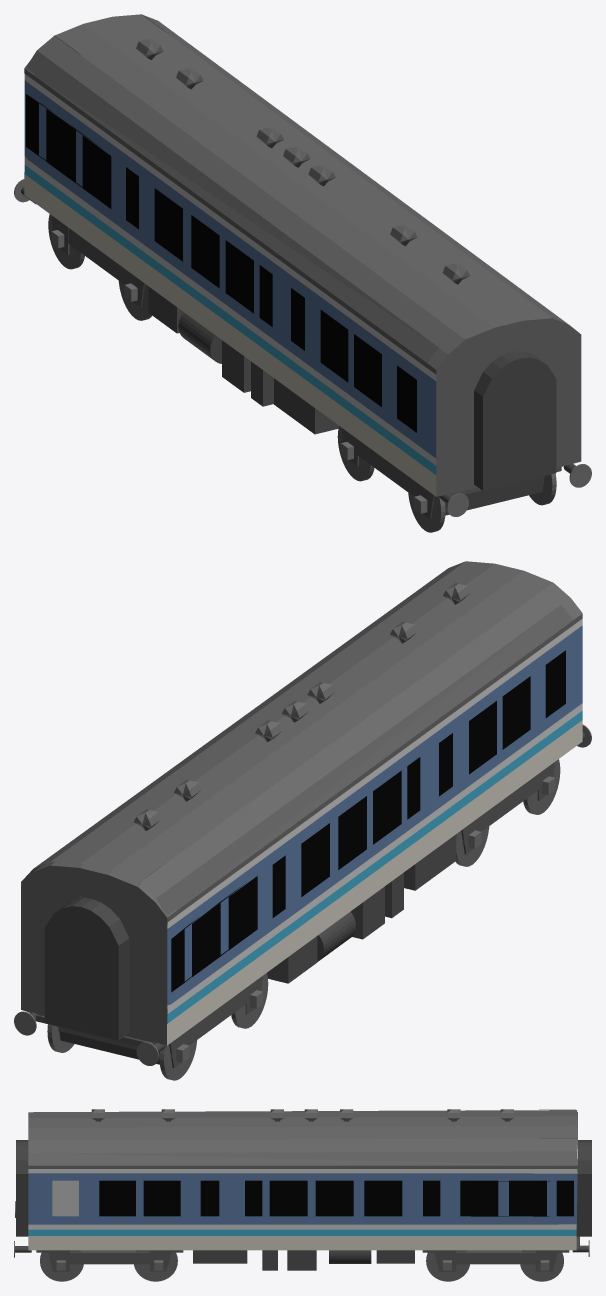
Rendered from BR-101-tsl-rr.dae.
The picture shows the model from 3 angles, top to bottom: view 1: azimuth 30°, elevation 25°; view 2: azimuth 150°, elevation 25°; view 3: azimuth 270°, elevation 25°; orthographic projection. The views are drawn at different scales.
Parts seen in each view (by area): view 1: BR-cl101-front_rear, Cube, Cube_060_001, Cube_001, Cube_043_001, Cube_043, Cylinder_002, Cube_003, Cube_004, Cube_002, Cylinder_011_001; view 2: BR-cl101-front_rear, Cube_005, Cube_043, Cube_001, Cube_043_001, Cube_004, Cube_003, Cube_061, Cylinder_002, Cylinder_010, Cube_002; view 3: BR-cl101-front_rear, Cube_005, Cube_043, Cube_043_001, Cube, Cube_001, Cube_003, Cylinder_009_001, Cylinder_008, Cylinder_009, Cylinder_008_001, Cylinder_003 (+4 smaller).
Part boxes in pixels (x1,y1,x2,y2): BR-cl101-front_rear: (24, 14, 581, 496); Cube: (474, 351, 556, 490); Cube_060_001: (422, 467, 561, 519); Cube_001: (274, 378, 338, 434); Cube_043_001: (357, 439, 431, 508); Cube_043: (68, 228, 141, 296); Cylinder_002: (178, 312, 221, 363); Cube_003: (222, 340, 250, 392); Cube_004: (148, 286, 183, 333); Cube_002: (251, 361, 273, 406); Cylinder_011_001: (408, 493, 445, 532); BR-cl101-front_rear: (21, 561, 582, 1045); Cube_005: (44, 896, 129, 1040); Cube_043: (58, 977, 260, 1058); Cube_001: (404, 834, 456, 890); Cube_043_001: (462, 764, 552, 844); Cube_004: (167, 923, 317, 983); Cube_003: (351, 886, 384, 939); Cube_061: (59, 1031, 186, 1067); Cylinder_002: (317, 911, 355, 961); Cylinder_010: (159, 1040, 197, 1080); Cube_002: (385, 872, 403, 918); BR-cl101-front_rear: (28, 1109, 579, 1250); Cube_005: (576, 1140, 591, 1236); Cube_043: (456, 1250, 555, 1264); Cube_043_001: (70, 1250, 169, 1264); Cube: (16, 1140, 28, 1236); Cube_001: (193, 1250, 247, 1263); Cube_003: (287, 1250, 316, 1270); Cylinder_009_001: (134, 1250, 177, 1281); Cylinder_008: (426, 1250, 469, 1281); Cylinder_009: (520, 1250, 563, 1281); Cylinder_008_001: (40, 1250, 83, 1281); Cylinder_003: (329, 1250, 371, 1263).
Bounding box in the file's own units: 2.04 × 10.35 × 3.05.
